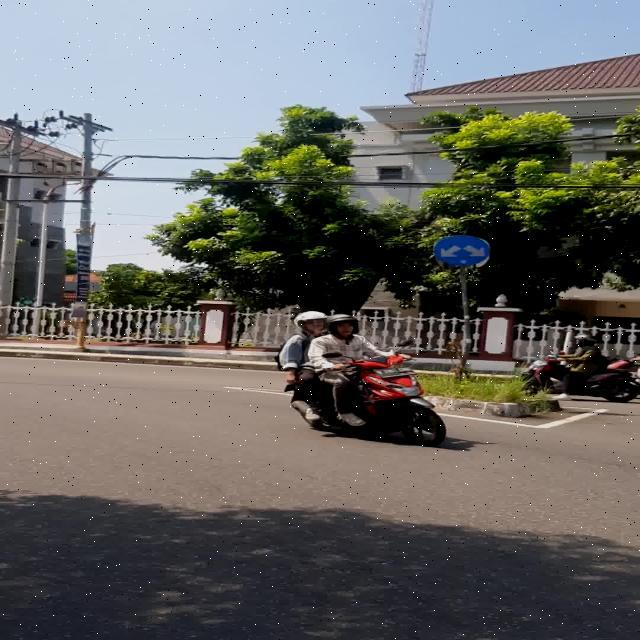Pilih Salah Satu Jalur: (434, 236, 490, 266)
